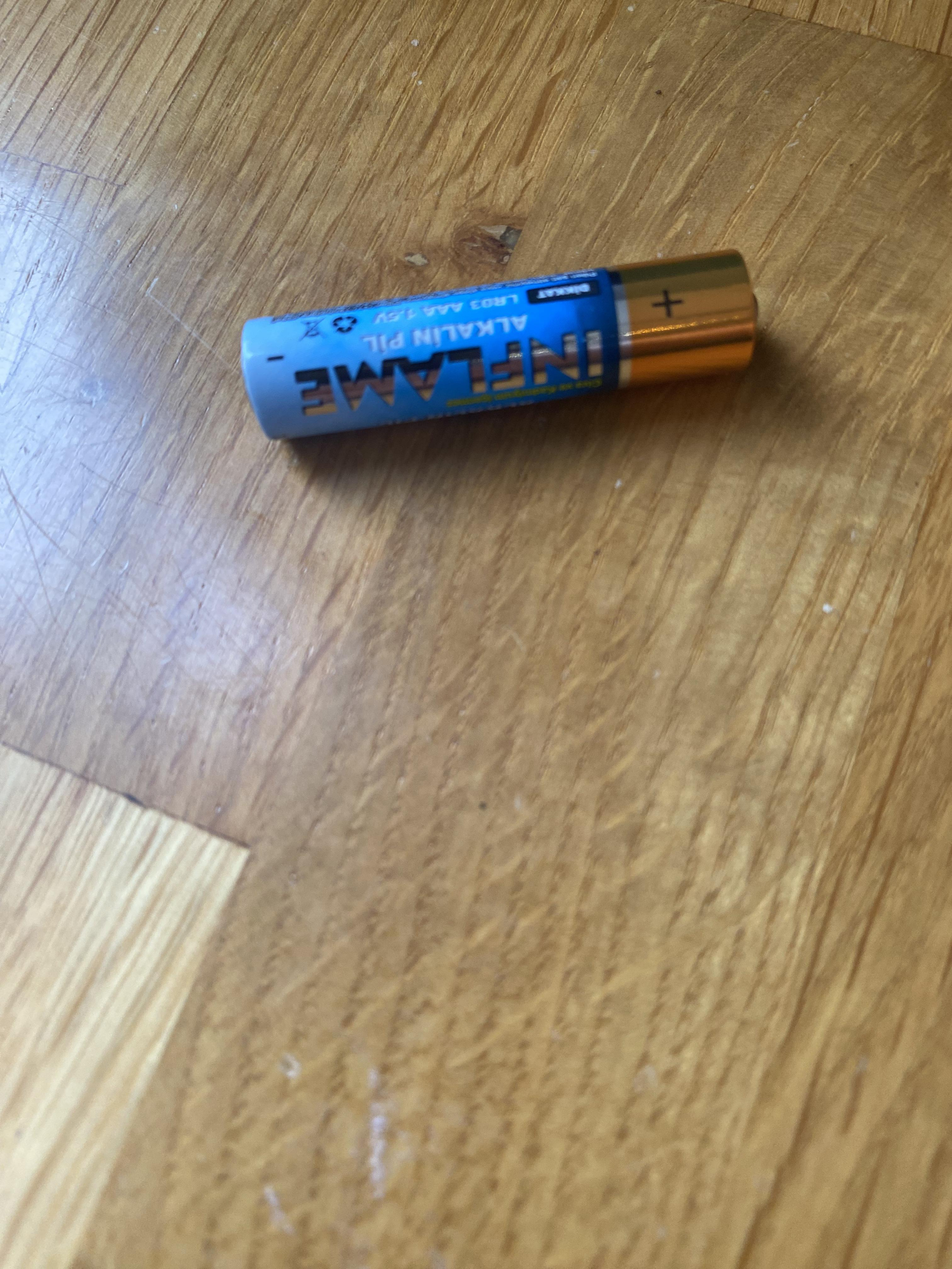AA: (239, 246, 759, 442)
